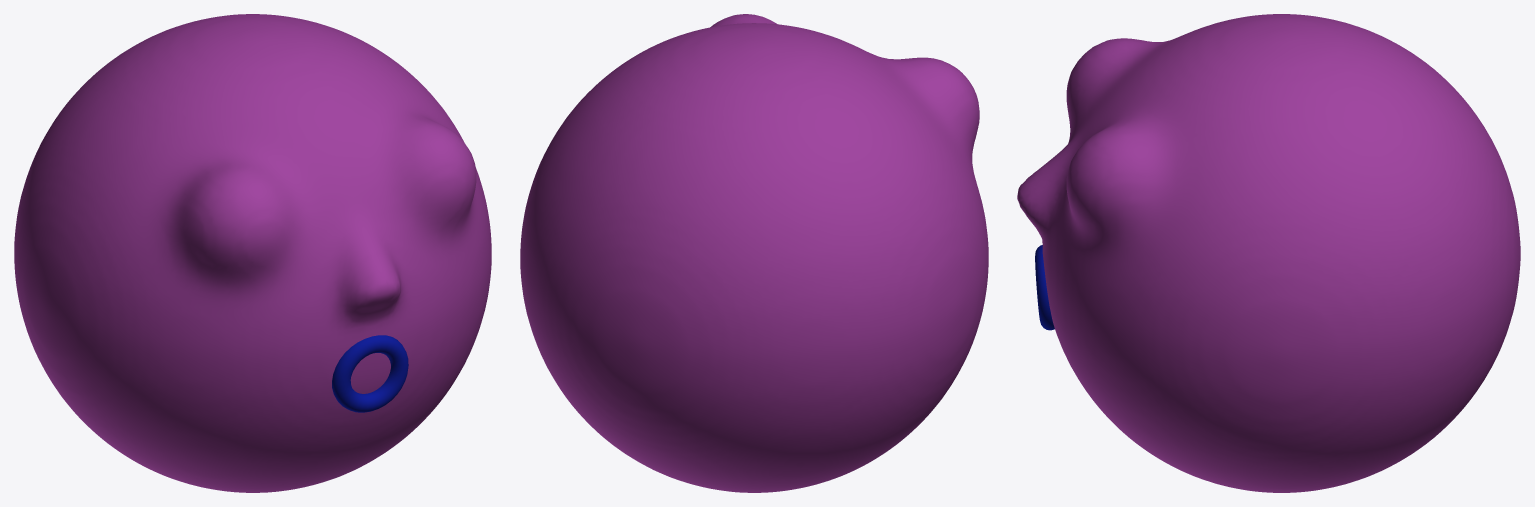
File: michal.fbx
3 views of the same model, side by side, from view 1: azimuth 30°, elevation 25°; view 2: azimuth 150°, elevation 25°; view 3: azimuth 270°, elevation 25° (orthographic).
Parts seen in each view (by area): view 1: Volume_Mesher, Torus; view 2: Volume_Mesher; view 3: Volume_Mesher, Torus.
Part boxes in pixels (x1,y1,x2,y2): Volume_Mesher: (14, 14, 491, 492); Torus: (332, 335, 408, 412); Volume_Mesher: (520, 14, 988, 492); Volume_Mesher: (1017, 14, 1520, 492); Torus: (1035, 245, 1054, 330).
Bounding box in the file's own units: 198 × 198 × 208.
